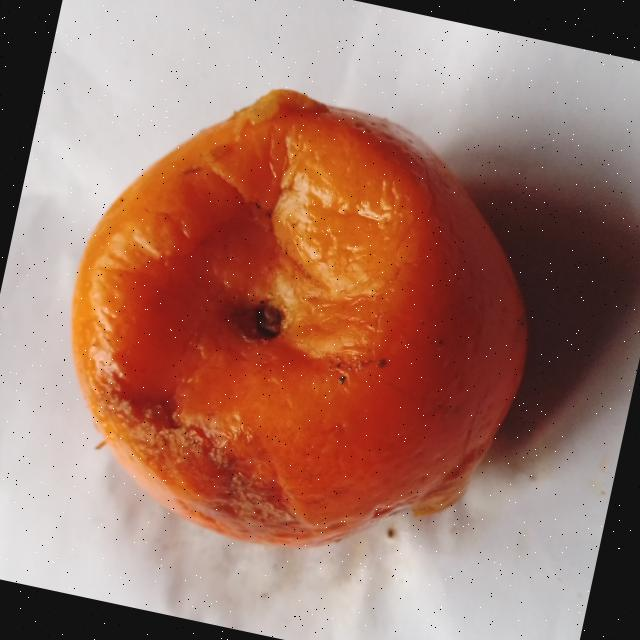Rotten: (26, 53, 573, 594)
